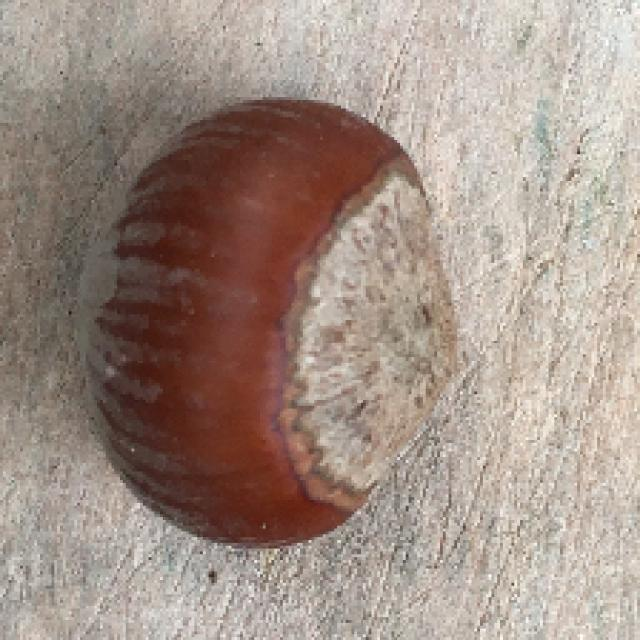qualityHazelnut: (72, 91, 465, 554)
